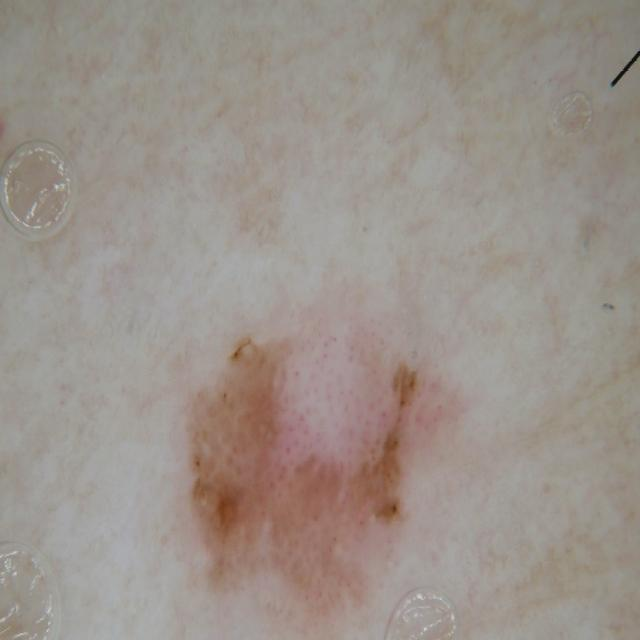Melanoma: (147, 293, 493, 640)
